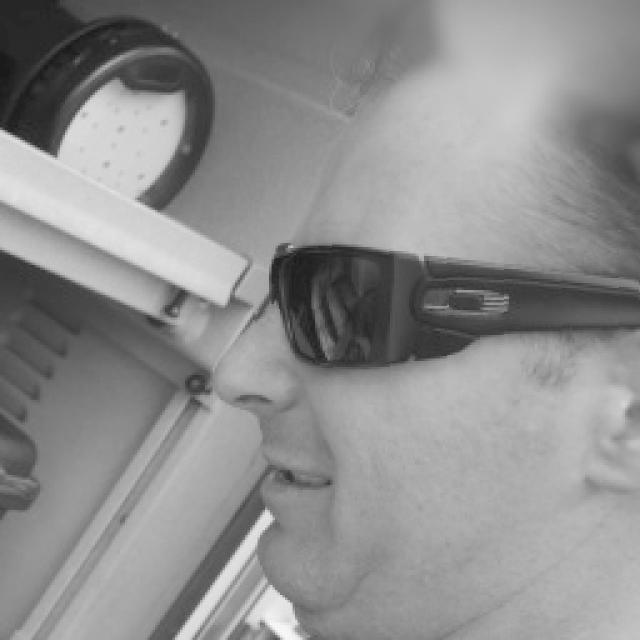glasses: (255, 230, 640, 384)
